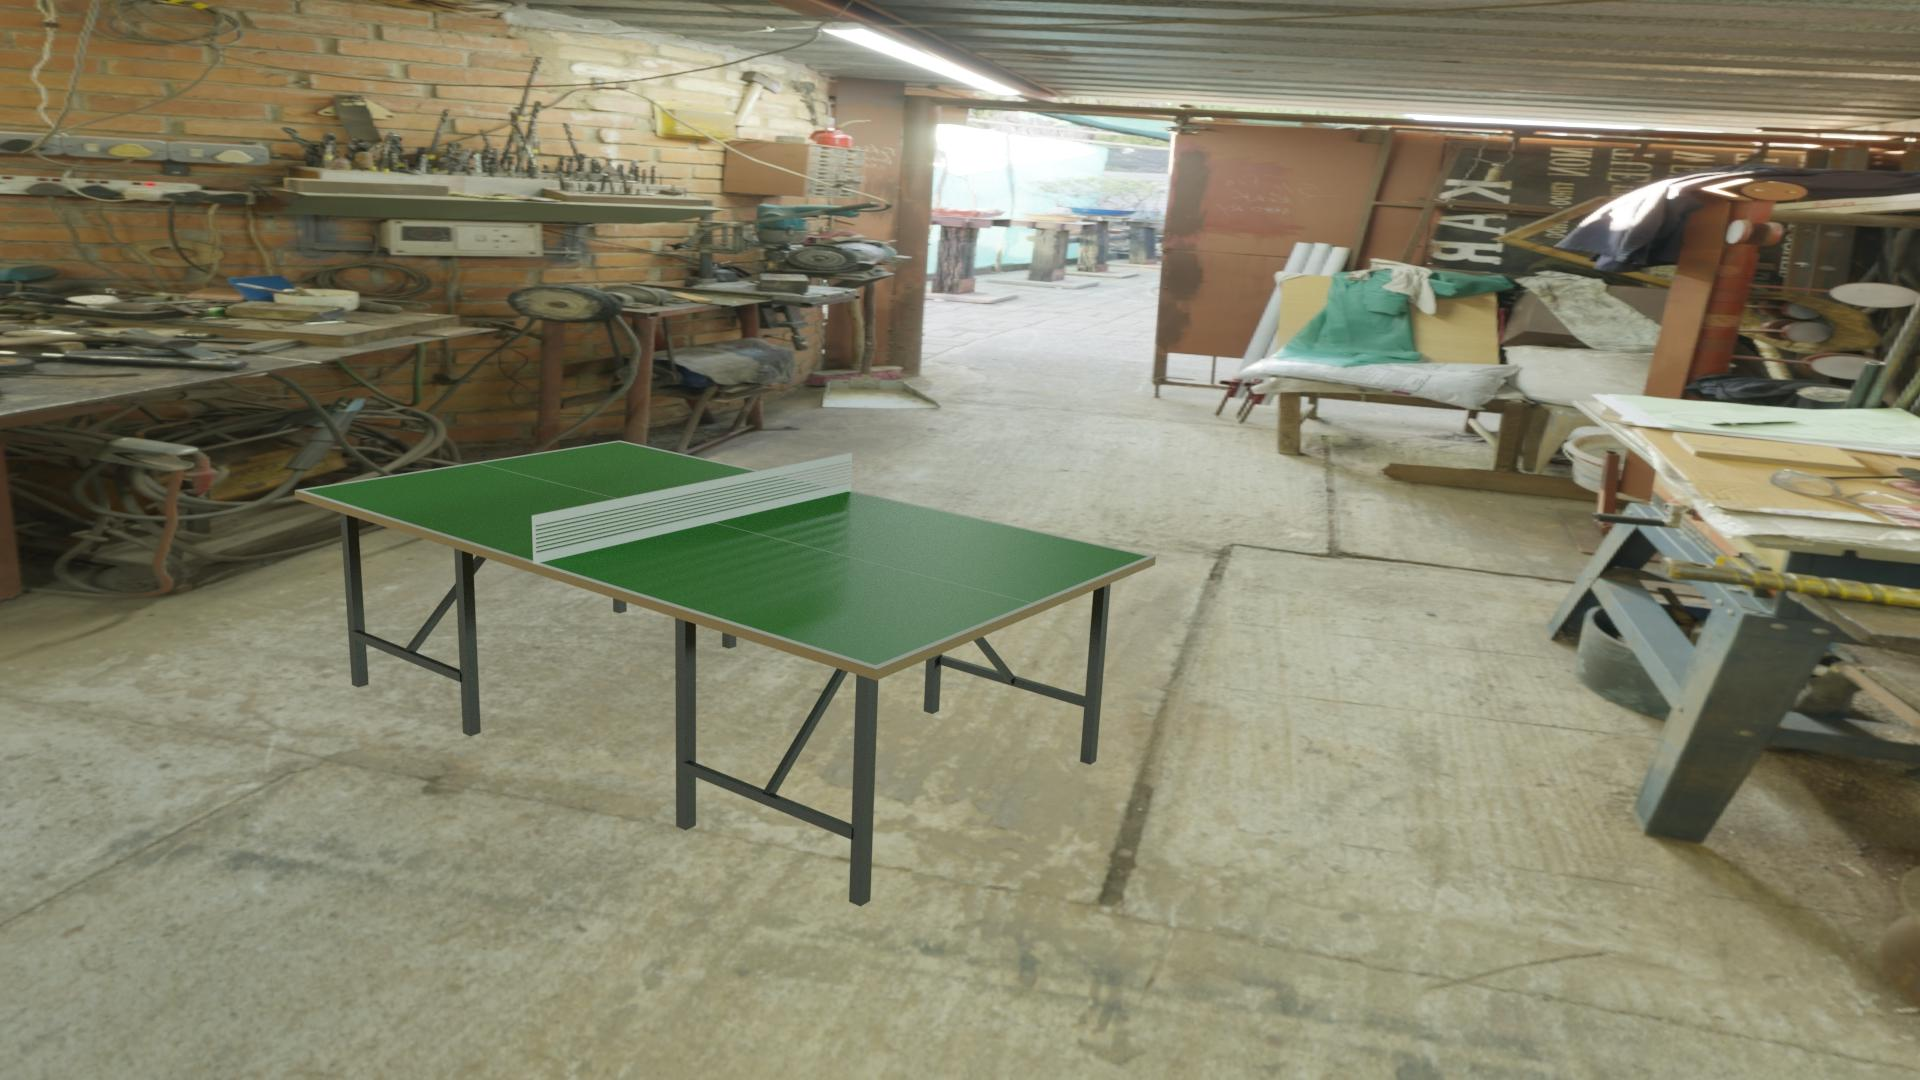table: (303, 442, 1149, 666)
